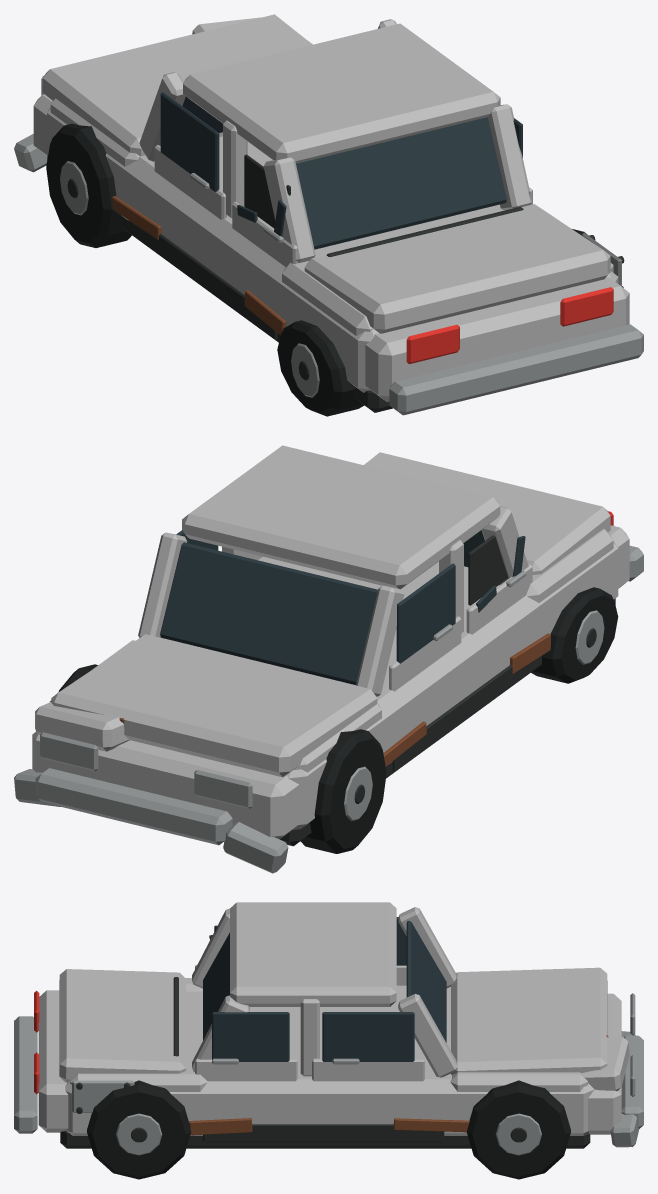
Rendered from car.glb.
3 renders of one model, top to bottom at view 1: azimuth 30°, elevation 25°; view 2: azimuth 150°, elevation 25°; view 3: azimuth 270°, elevation 25°, orthographic. The views are drawn at different scales.
Visible parts, largest first — view 1: car; view 2: car; view 3: car.
Part boxes in pixels (<box>): car: <box>14,14,643,416</box>; car: <box>14,445,643,873</box>; car: <box>14,902,643,1179</box>.
Bounding box in the file's own units: 1.84 × 1.34 × 4.23.
